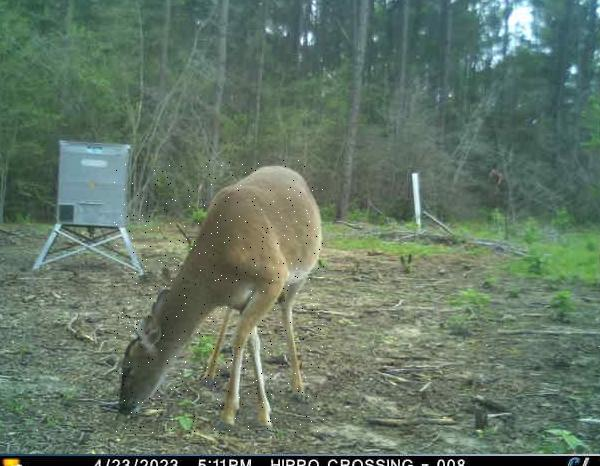Deer: (113, 160, 324, 435)
